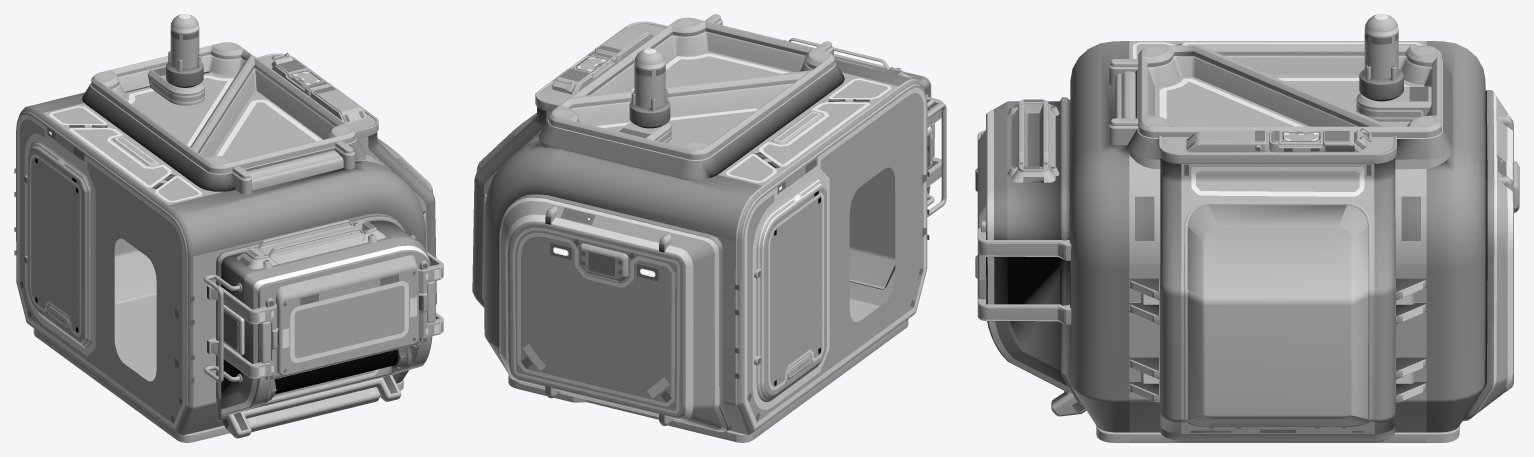
The model's file is SM_LivingModule_1_Merged.fbx.
3 views of the same model, side by side, from view 1: azimuth 30°, elevation 25°; view 2: azimuth 150°, elevation 25°; view 3: azimuth 270°, elevation 25° (orthographic). The views are drawn at different scales.
Visible parts, largest first — view 1: SM_LivingModule_1_Merged_LOD0; view 2: SM_LivingModule_1_Merged_LOD0; view 3: SM_LivingModule_1_Merged_LOD0.
Part boxes in pixels (x1=…): SM_LivingModule_1_Merged_LOD0: x1=14, y1=14, x2=443, y2=442; SM_LivingModule_1_Merged_LOD0: x1=472, y1=14, x2=946, y2=442; SM_LivingModule_1_Merged_LOD0: x1=975, y1=14, x2=1519, y2=442.
Size of the model in its own units: 672 by 871 by 649.
